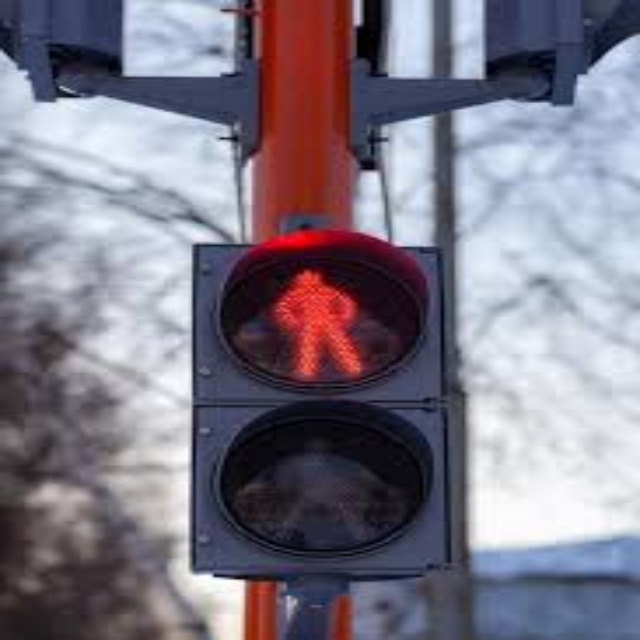red_light: (272, 265, 372, 378)
